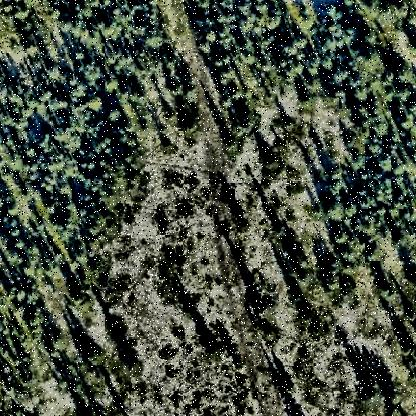tree-top: (376, 1, 408, 25), (121, 352, 149, 378), (68, 285, 95, 311), (87, 362, 113, 388), (281, 33, 309, 57), (299, 78, 323, 106), (252, 299, 277, 324), (235, 107, 261, 131), (360, 385, 384, 410), (360, 47, 384, 72), (179, 113, 203, 137), (324, 199, 348, 223), (83, 345, 108, 368), (302, 74, 326, 97), (259, 151, 283, 174), (326, 175, 349, 199), (144, 28, 169, 50), (395, 61, 416, 86), (377, 281, 400, 303), (398, 70, 416, 97), (49, 330, 71, 352), (216, 70, 238, 92), (101, 20, 125, 40), (223, 134, 244, 156), (299, 89, 320, 111), (370, 119, 391, 140), (204, 339, 224, 361), (44, 63, 66, 83), (50, 93, 72, 113), (279, 114, 301, 134), (365, 242, 385, 264), (377, 154, 397, 175), (397, 228, 416, 250), (327, 3, 348, 22), (88, 93, 107, 113), (103, 74, 122, 94), (332, 66, 350, 87), (282, 379, 300, 399), (239, 16, 257, 36), (362, 219, 380, 239), (310, 320, 330, 338), (106, 106, 125, 124), (333, 229, 351, 248), (370, 140, 389, 158), (397, 84, 415, 103), (351, 152, 369, 171), (353, 86, 374, 102), (12, 285, 32, 301), (169, 80, 189, 96), (237, 217, 254, 235), (201, 30, 219, 47), (19, 104, 36, 122), (6, 201, 22, 220), (15, 7, 32, 24), (274, 224, 292, 240), (268, 15, 284, 33), (92, 259, 110, 275), (60, 18, 76, 36), (300, 307, 316, 325), (257, 1, 273, 17), (20, 20, 36, 36), (23, 147, 39, 162), (164, 141, 179, 157), (60, 181, 75, 197), (99, 134, 115, 149), (195, 1, 214, 13), (239, 1, 253, 16), (403, 340, 416, 356), (26, 44, 40, 58), (79, 205, 91, 221), (11, 226, 23, 240)
